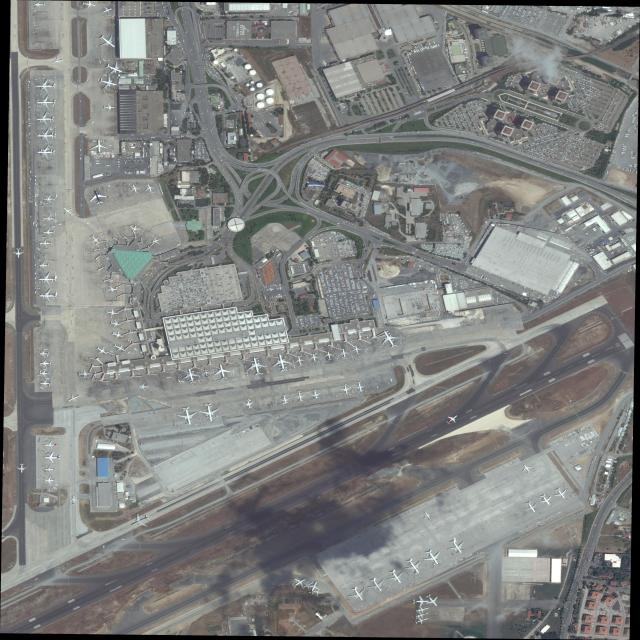large-vehicle: (532, 291, 538, 294), (606, 23, 610, 27), (483, 275, 486, 280), (181, 380, 186, 383), (178, 379, 181, 384), (32, 221, 35, 226), (605, 23, 608, 28), (608, 22, 611, 27), (613, 21, 616, 26), (616, 20, 619, 25), (619, 19, 622, 24), (524, 285, 527, 289), (292, 12, 298, 14), (480, 275, 483, 279), (619, 30, 622, 34), (614, 21, 617, 25), (615, 21, 618, 25), (610, 22, 612, 27), (462, 224, 465, 227), (556, 293, 559, 296), (174, 365, 178, 367), (611, 22, 613, 26), (612, 22, 614, 26), (368, 126, 371, 128), (292, 14, 298, 15), (543, 300, 546, 302), (547, 298, 550, 300), (454, 213, 456, 216), (166, 377, 171, 378), (239, 413, 244, 414), (602, 21, 603, 26), (289, 11, 293, 12), (406, 256, 409, 257), (402, 256, 405, 257), (395, 256, 398, 257), (463, 229, 466, 230), (445, 217, 448, 218), (449, 214, 450, 217), (457, 214, 458, 217), (465, 230, 468, 231), (465, 231, 468, 232), (275, 7, 276, 9), (603, 22, 604, 24), (451, 214, 452, 216), (456, 214, 457, 216)
plane: (375, 328, 405, 351), (93, 30, 122, 52), (125, 510, 155, 531), (419, 547, 447, 569), (343, 583, 371, 605), (442, 536, 471, 557), (243, 356, 270, 378), (175, 405, 201, 427), (269, 352, 295, 374), (364, 574, 390, 596), (400, 556, 427, 577), (383, 566, 410, 587), (101, 59, 128, 79), (198, 402, 222, 423), (178, 366, 203, 386), (85, 188, 110, 207), (95, 73, 119, 92), (211, 362, 235, 381), (421, 591, 444, 609), (520, 498, 542, 516), (89, 138, 110, 156), (34, 78, 56, 94), (288, 574, 310, 590), (35, 95, 58, 110), (550, 485, 570, 502), (36, 128, 57, 144), (535, 492, 556, 508), (37, 288, 59, 303), (304, 579, 323, 596), (38, 271, 58, 287), (36, 145, 56, 160), (35, 111, 55, 126), (58, 204, 77, 219), (443, 412, 461, 427), (86, 232, 105, 246), (98, 4, 116, 18), (65, 391, 83, 405), (411, 595, 431, 607), (298, 579, 316, 592), (412, 615, 431, 627), (111, 341, 128, 354), (420, 510, 437, 523), (43, 451, 61, 463), (142, 182, 157, 196), (293, 354, 308, 368), (148, 234, 164, 247), (519, 462, 535, 475), (109, 329, 126, 341), (93, 344, 110, 356), (413, 610, 431, 621), (413, 604, 431, 615), (353, 380, 368, 393), (337, 347, 352, 360), (322, 349, 337, 362), (127, 183, 143, 195), (338, 383, 354, 395), (104, 307, 121, 318), (106, 318, 123, 329), (127, 222, 142, 234), (50, 55, 65, 67), (308, 388, 323, 400), (292, 390, 307, 402), (307, 352, 322, 364), (41, 213, 57, 224), (104, 284, 120, 295), (350, 344, 364, 356), (277, 394, 292, 405), (44, 440, 60, 450), (242, 398, 255, 410), (80, 1, 97, 10), (38, 238, 53, 248), (42, 194, 57, 204), (67, 495, 80, 506), (200, 369, 214, 379), (43, 476, 57, 486), (42, 228, 57, 237), (38, 359, 53, 368), (16, 463, 28, 474), (103, 102, 116, 112), (138, 382, 151, 392), (39, 379, 53, 388), (13, 248, 24, 259), (38, 349, 51, 358), (78, 370, 91, 379), (38, 261, 50, 270), (44, 465, 56, 474), (33, 1, 46, 9), (39, 369, 50, 378)
storage-tank: (226, 216, 246, 233), (255, 101, 265, 109), (265, 88, 275, 96), (265, 97, 275, 104), (256, 93, 265, 100), (255, 82, 263, 88), (248, 70, 256, 76), (244, 64, 252, 70), (249, 87, 255, 91), (245, 83, 250, 87), (250, 80, 255, 84), (213, 60, 218, 64), (250, 134, 253, 137), (234, 49, 237, 51)
